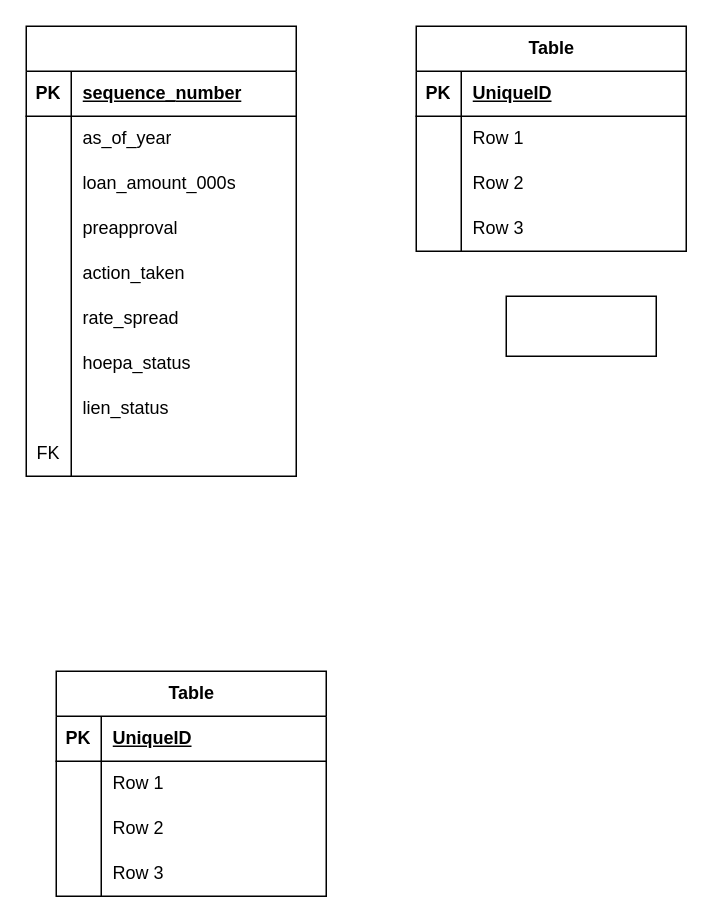
Image size: 713x923. Some labels were removed from this diagram. Each missing label, with the box of its shape:
Entity: (505, 295, 656, 356)
Loan _Application: (25, 25, 296, 476)
